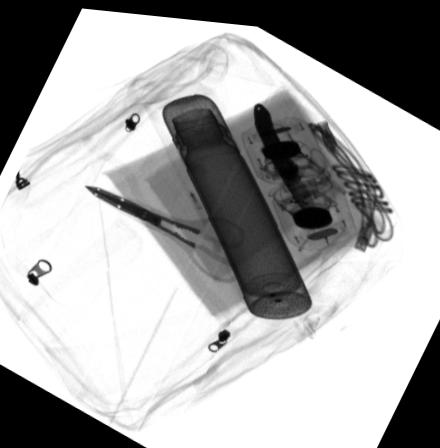Knife: (253, 96, 317, 217)
Scissors: (85, 182, 246, 279)
